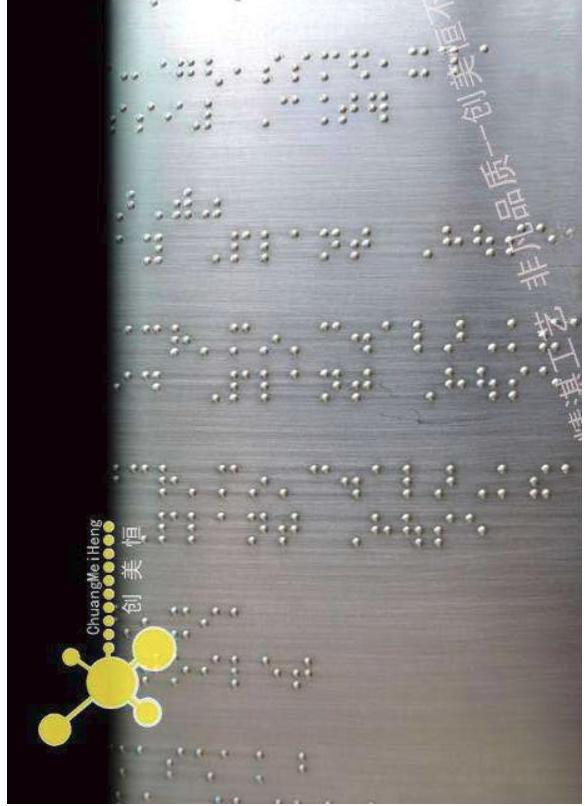Braille: (463, 462, 488, 501), (283, 749, 309, 786), (506, 316, 531, 353), (465, 513, 489, 551), (401, 464, 427, 499), (221, 748, 245, 785), (156, 507, 179, 545), (320, 368, 344, 404), (254, 750, 278, 786), (530, 462, 552, 501), (444, 319, 468, 354), (168, 605, 192, 640), (163, 744, 187, 779), (435, 512, 457, 550), (477, 365, 499, 403), (350, 224, 372, 262), (140, 190, 166, 222), (215, 509, 238, 545), (352, 367, 375, 403), (472, 226, 495, 262), (409, 227, 433, 261), (403, 512, 425, 549), (497, 464, 519, 501), (441, 224, 463, 261), (368, 90, 390, 127), (445, 366, 468, 401), (195, 746, 217, 782), (170, 323, 193, 357), (146, 59, 169, 93), (229, 654, 252, 688), (509, 364, 529, 403), (310, 465, 331, 502), (372, 464, 393, 501), (475, 319, 497, 354), (200, 187, 223, 220), (308, 93, 329, 129), (340, 466, 362, 500), (140, 368, 162, 402), (351, 322, 373, 356), (261, 52, 283, 86), (408, 46, 431, 78), (322, 321, 343, 356), (413, 320, 434, 355), (436, 467, 458, 500), (230, 323, 252, 356), (290, 369, 311, 403), (193, 100, 214, 134), (230, 606, 251, 640), (197, 234, 220, 265), (134, 103, 157, 134), (173, 189, 195, 221), (247, 511, 268, 544), (279, 512, 300, 545), (371, 512, 392, 545), (218, 463, 239, 496), (415, 371, 436, 404), (319, 229, 340, 262), (176, 58, 197, 91), (187, 511, 207, 545), (279, 465, 299, 499), (293, 655, 313, 689), (158, 463, 179, 495), (260, 370, 281, 402), (144, 234, 165, 266), (320, 51, 341, 83), (280, 95, 299, 130), (230, 369, 250, 402), (142, 325, 162, 358), (261, 323, 281, 356), (290, 229, 310, 262), (232, 55, 252, 88), (350, 49, 370, 82), (231, 231, 252, 262), (382, 322, 401, 356), (340, 92, 359, 126), (342, 514, 362, 546), (117, 191, 137, 223), (262, 229, 280, 264), (249, 100, 270, 130), (381, 48, 400, 81), (201, 605, 220, 638), (130, 463, 150, 494), (294, 53, 314, 84), (201, 370, 220, 402), (204, 56, 223, 88), (202, 652, 221, 684), (250, 467, 270, 496), (166, 102, 184, 134), (202, 326, 220, 357), (189, 461, 206, 493), (291, 325, 308, 356), (262, 656, 280, 685)
